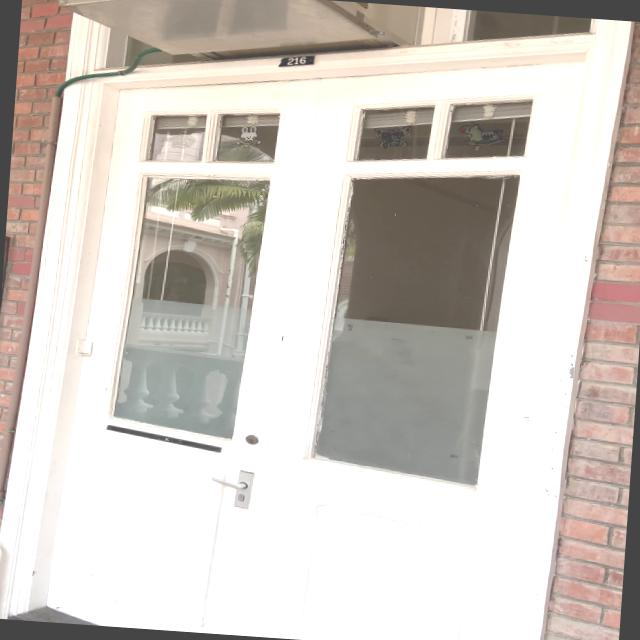room216: (274, 51, 316, 70)
